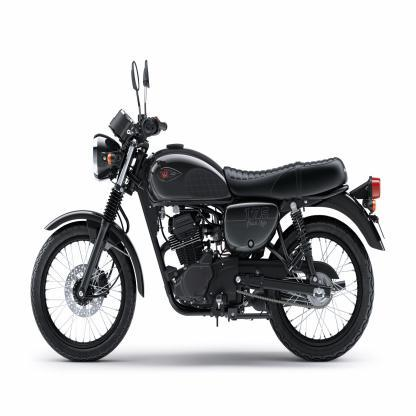Motorcycle: (25, 48, 393, 371)
